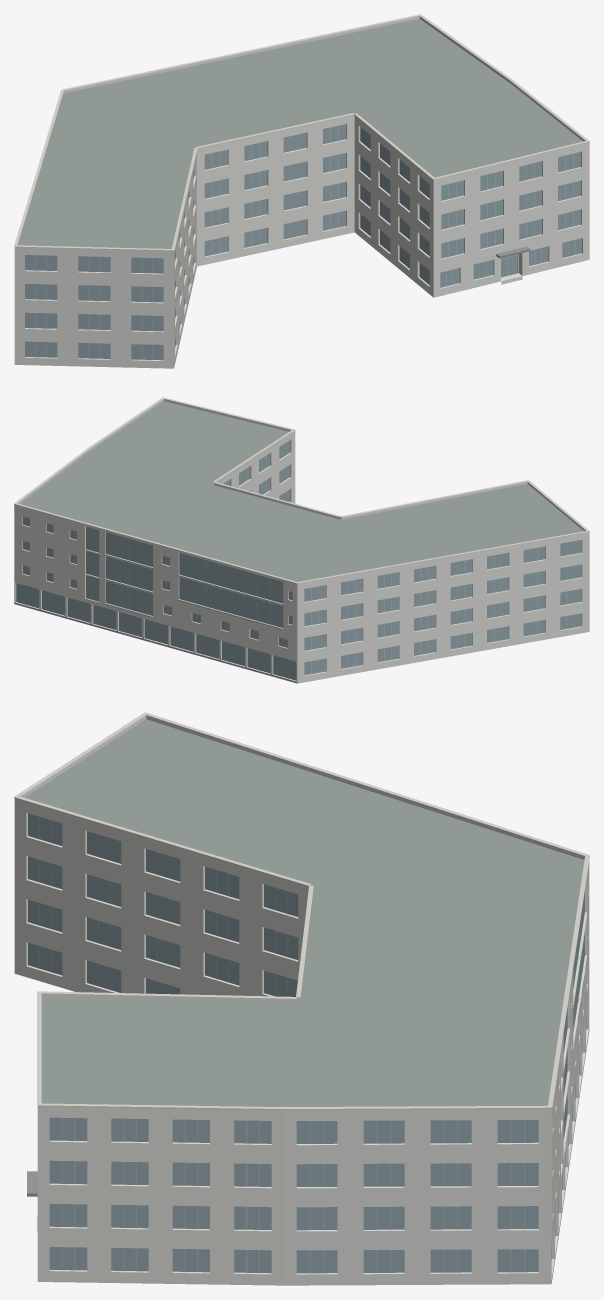
3 renders of one model, top to bottom at view 1: azimuth 30°, elevation 25°; view 2: azimuth 150°, elevation 25°; view 3: azimuth 270°, elevation 25°, orthographic. The views are drawn at different scales.
Visible parts, largest first — view 1: b1367280820__roof, b1367280820__wall, b1367280820__glass, b1367280820__trim, b1367280820__parapet, b1367280820__frame; view 2: b1367280820__roof, b1367280820__wall, b1367280820__glass, b1367280820__parapet, b1367280820__trim, b1367280820__frame, b1367280820__spandrel, b1367280820__base; view 3: b1367280820__roof, b1367280820__wall, b1367280820__glass, b1367280820__trim, b1367280820__parapet, b1367280820__frame.
Boxes of the visible parts, box(x1,y1,x2,y2) form: b1367280820__roof: box(15, 18, 587, 368); b1367280820__wall: box(14, 116, 589, 368); b1367280820__glass: box(25, 124, 581, 360); b1367280820__trim: box(14, 14, 589, 251); b1367280820__parapet: box(14, 16, 589, 252); b1367280820__frame: box(35, 125, 575, 359); b1367280820__roof: box(15, 401, 589, 683); b1367280820__wall: box(14, 432, 589, 683); b1367280820__glass: box(16, 440, 581, 680); b1367280820__parapet: box(14, 399, 589, 585); b1367280820__trim: box(14, 397, 589, 583); b1367280820__frame: box(92, 443, 574, 674); b1367280820__spandrel: box(85, 550, 283, 630); b1367280820__base: box(14, 602, 297, 683); b1367280820__roof: box(15, 719, 584, 1285); b1367280820__wall: box(14, 801, 589, 1285); b1367280820__glass: box(28, 813, 586, 1273); b1367280820__trim: box(14, 712, 589, 1110); b1367280820__parapet: box(14, 715, 584, 1112); b1367280820__frame: box(39, 817, 578, 1273).
Size of the model in its own units: 71.07 by 15.15 by 43.6.
